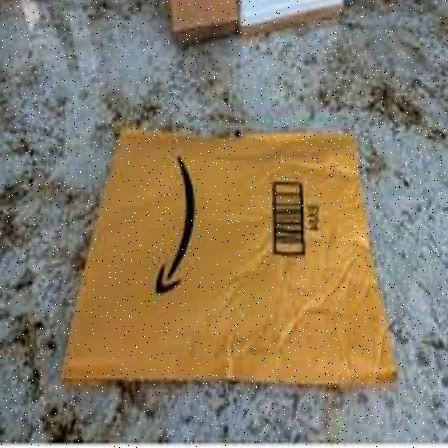Amazon: (57, 126, 399, 384)
